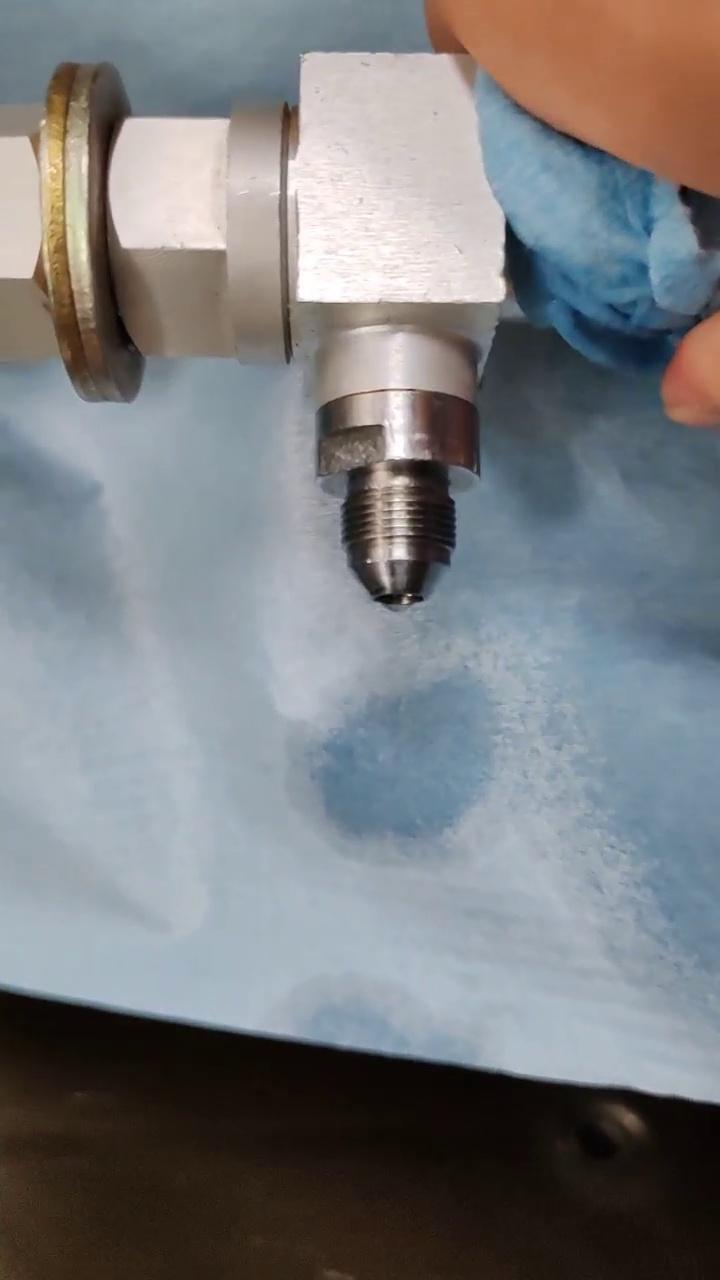water drop: (383, 597, 412, 614)
